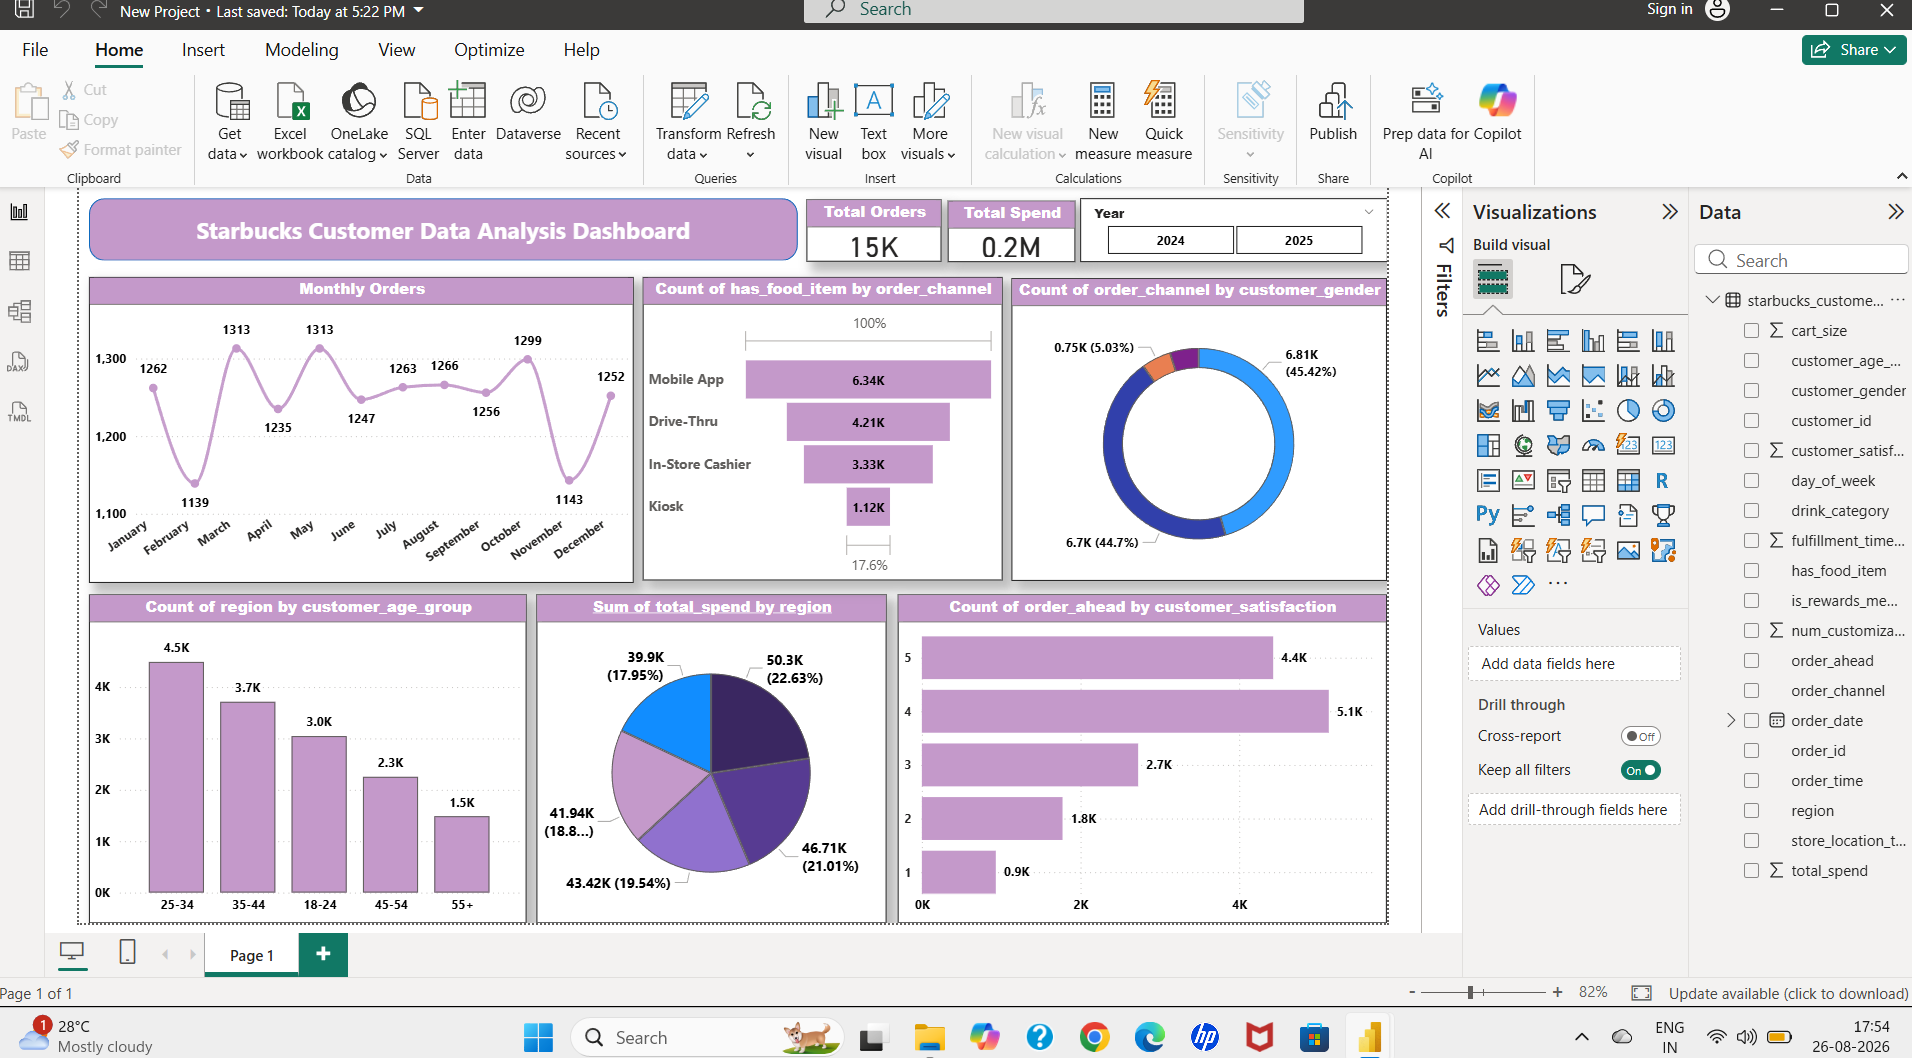

Layout of this report page (visuals, bound fields, positions):
{"tool":"powerbi","page":{"name":"Page 1","canvas":[1280,720],"ordinal":0},"visuals":[{"type":"shape","box":[9.8,11,693.3,61.1],"z":0},{"type":"card","title":"Total Orders","fields":{"Values":["CountNonNull(starbucks_customer_ordering_patterns.customer_gender)"]},"box":[711.7,12.2,132.1,61.1],"z":1000},{"type":"textbox","box":[980,140,300,300],"z":2000},{"type":"card","title":"Total Spend","fields":{"Values":["Sum(starbucks_customer_ordering_patterns.total_spend)"]},"box":[849.9,13.5,124.7,59.9],"z":3000},{"type":"lineChart","title":"Monthly Orders","fields":{"Category":["starbucks_customer_ordering_patterns.order_date.Variation.Date Hierarchy.Month"],"Y":["CountNonNull(starbucks_customer_ordering_patterns.region)"]},"box":[9.8,88,533.2,299.6],"z":4000},{"type":"clusteredColumnChart","fields":{"Category":["starbucks_customer_ordering_patterns.customer_age_group"],"Y":["CountNonNull(starbucks_customer_ordering_patterns.region)"]},"box":[9.8,398.6,428,321.6],"z":5000},{"type":"pieChart","fields":{"Category":["starbucks_customer_ordering_patterns.region"],"Y":["Sum(starbucks_customer_ordering_patterns.total_spend)"]},"box":[447.6,398.6,342.4,321.6],"z":6000},{"type":"funnel","fields":{"Category":["starbucks_customer_ordering_patterns.order_channel"],"Y":["CountNonNull(starbucks_customer_ordering_patterns.has_food_item)"]},"box":[551.5,88,352.2,297.1],"z":7000},{"type":"donutChart","fields":{"Y":["CountNonNull(starbucks_customer_ordering_patterns.order_channel)"],"Category":["starbucks_customer_ordering_patterns.customer_gender"]},"box":[912.2,89.3,366.8,295.9],"z":8000},{"type":"clusteredBarChart","fields":{"Category":["starbucks_customer_ordering_patterns.customer_satisfaction"],"Y":["CountNonNull(starbucks_customer_ordering_patterns.order_ahead)"]},"box":[801,398.6,478.1,321.6],"z":9000},{"type":"slicer","fields":{"Values":["starbucks_customer_ordering_patterns.order_date.Variation.Date Hierarchy.Year"]},"box":[979.5,11,300.8,62.4],"z":10000}]}

Visuals, with their boxes on the page's 1280x720 design canvas (x1, y1, x2, y2). These are canvas units, not pixel positions in the 1912x1058 screenshot, which may show the page scaled, cropped or inside an application window:
shape: 10:11:703:72
"Total Orders" card: 712:12:844:73
textbox: 980:140:1280:440
"Total Spend" card: 850:14:975:73
"Monthly Orders" lineChart: 10:88:543:388
clusteredColumnChart - starbucks_customer_ordering_patterns.customer_age_group x CountNonNull(starbucks_customer_ordering_patterns.region): 10:399:438:720
pieChart - starbucks_customer_ordering_patterns.region x Sum(starbucks_customer_ordering_patterns.total_spend): 448:399:790:720
funnel - starbucks_customer_ordering_patterns.order_channel x CountNonNull(starbucks_customer_ordering_patterns.has_food_item): 552:88:904:385
donutChart - CountNonNull(starbucks_customer_ordering_patterns.order_channel) x starbucks_customer_ordering_patterns.customer_gender: 912:89:1279:385
clusteredBarChart - starbucks_customer_ordering_patterns.customer_satisfaction x CountNonNull(starbucks_customer_ordering_patterns.order_ahead): 801:399:1279:720
slicer - starbucks_customer_ordering_patterns.order_date.Variation.Date Hierarchy.Year: 980:11:1280:73
